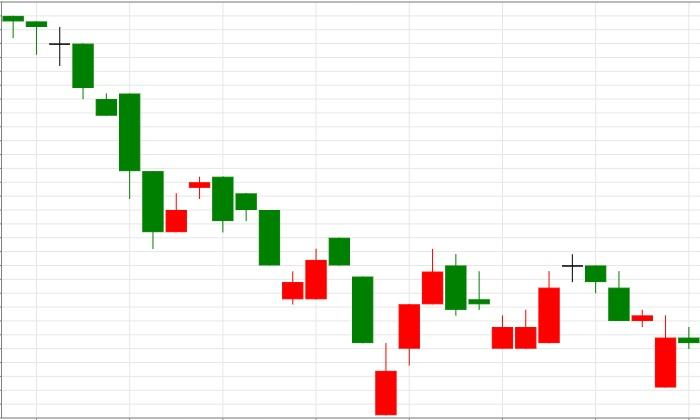three_white_soldiers_rise: (329, 237, 443, 415)
